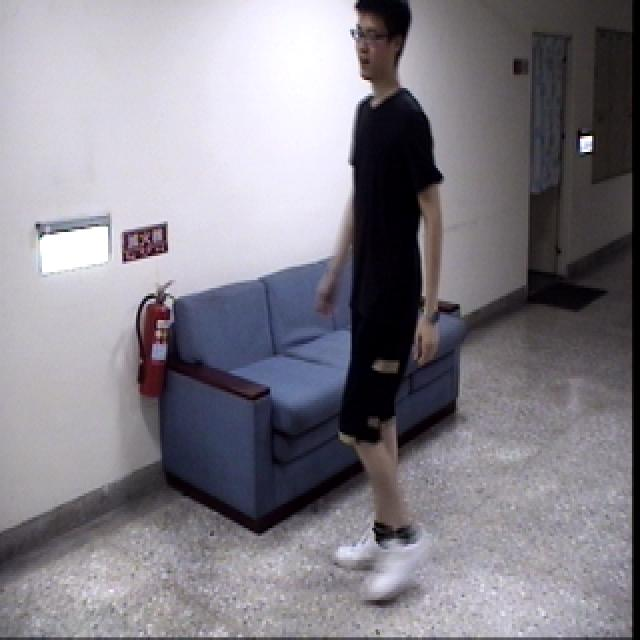stand: (303, 0, 464, 615)
